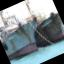fishing boat: (0, 0, 50, 63), (17, 0, 64, 51)
